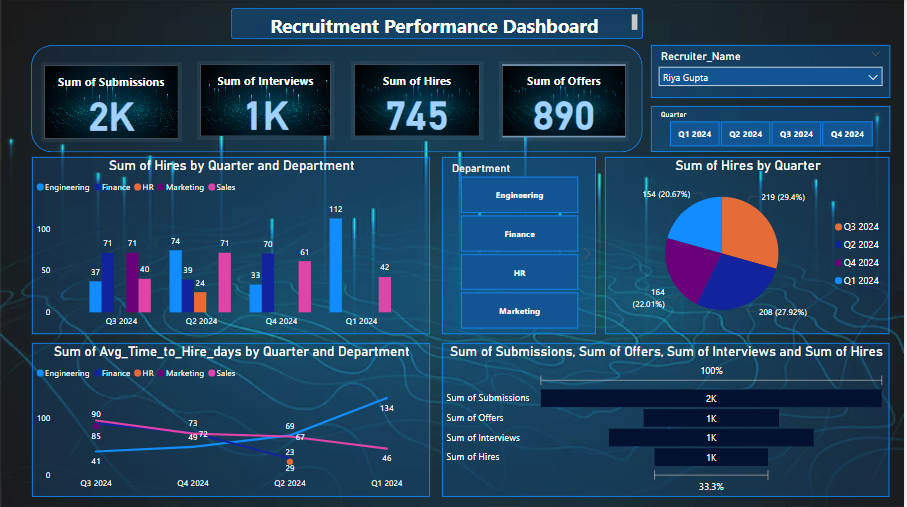

What the dashboard file says about the page in this screenshot:
{"tool":"powerbi","page":{"name":"Performance Dashboard","canvas":[1280,720],"ordinal":0},"visuals":[{"type":"clusteredColumnChart","fields":{"Category":["Recruiter_Performance_Data.Quarter"],"Series":["Recruiter_Performance_Data.Department"],"Y":["Sum(Recruiter_Performance_Data.Hires)"]},"box":[45.9,223.9,563.9,251.1],"z":0},{"type":"shape","title":"Metrics","box":[44.5,64.6,866.7,152.1],"z":500,"group":"g1"},{"type":"cardVisual","fields":{"Data":["Sum(Recruiter_Performance_Data.Submissions)"]},"box":[58.1,88,199.9,113.1],"z":1000,"group":"g1"},{"type":"lineChart","fields":{"Category":["Recruiter_Performance_Data.Quarter"],"Series":["Recruiter_Performance_Data.Department"],"Y":["Sum(Recruiter_Performance_Data.Avg_Time_to_Hire_days)"]},"box":[45.9,487.9,563.9,218.1],"z":1000},{"type":"slicer","fields":{"Values":["Recruiter_Performance_Data.Recruiter_Name"]},"box":[922.7,64.6,338.7,74.6],"z":2000},{"type":"cardVisual","fields":{"Data":["Sum(Recruiter_Performance_Data.Interviews)"]},"box":[279.5,87.7,194.7,112],"z":2000,"group":"g1"},{"type":"group","id":"g1","title":"Group 1","box":[44.5,64.6,866.7,152.1],"z":3000},{"type":"cardVisual","fields":{"Data":["Sum(Recruiter_Performance_Data.Hires)"]},"box":[498.3,87.7,187.8,112],"z":3000,"group":"g1"},{"type":"cardVisual","fields":{"Data":["Sum(Recruiter_Performance_Data.Offers)"]},"box":[708.5,87.7,184.3,113.7],"z":4000,"group":"g1"},{"type":"funnel","fields":{"Y":["Sum(Recruiter_Performance_Data.Submissions)","Sum(Recruiter_Performance_Data.Offers)","Sum(Recruiter_Performance_Data.Interviews)","Sum(Recruiter_Performance_Data.Hires)"]},"box":[627.1,487.9,634.3,218.1],"z":4000},{"type":"slicer","fields":{"Values":["Recruiter_Performance_Data.Department"]},"box":[627.1,223.9,218.1,251.1],"z":5000},{"type":"slicer","fields":{"Values":["Recruiter_Performance_Data.Quarter"]},"box":[922.7,152.1,338.7,64.6],"z":5001},{"type":"pieChart","fields":{"Category":["Recruiter_Performance_Data.Quarter"],"Y":["Sum(Recruiter_Performance_Data.Hires)"]},"box":[858.1,223.9,403.2,251.1],"z":5002},{"type":"textbox","box":[327.2,12.9,584,44.5],"z":5003}]}

Visuals, with their boxes in screenshot pixels (x1, y1, x2, y2), scaled from the page's 1280x720 canvas onto the 907x507 screenshot:
clusteredColumnChart - Recruiter_Performance_Data.Quarter x Recruiter_Performance_Data.Department: 33,158,432,334
"Metrics" shape: 32,45,646,153
cardVisual - Sum(Recruiter_Performance_Data.Submissions): 41,62,183,142
lineChart - Recruiter_Performance_Data.Quarter x Recruiter_Performance_Data.Department: 33,344,432,497
slicer - Recruiter_Performance_Data.Recruiter_Name: 654,45,894,98
cardVisual - Sum(Recruiter_Performance_Data.Interviews): 198,62,336,141
"Group 1" group: 32,45,646,153
cardVisual - Sum(Recruiter_Performance_Data.Hires): 353,62,486,141
cardVisual - Sum(Recruiter_Performance_Data.Offers): 502,62,633,142
funnel - Sum(Recruiter_Performance_Data.Submissions) x Sum(Recruiter_Performance_Data.Offers): 444,344,894,497
slicer - Recruiter_Performance_Data.Department: 444,158,599,334
slicer - Recruiter_Performance_Data.Quarter: 654,107,894,153
pieChart - Recruiter_Performance_Data.Quarter x Sum(Recruiter_Performance_Data.Hires): 608,158,894,334
textbox: 232,9,646,40
